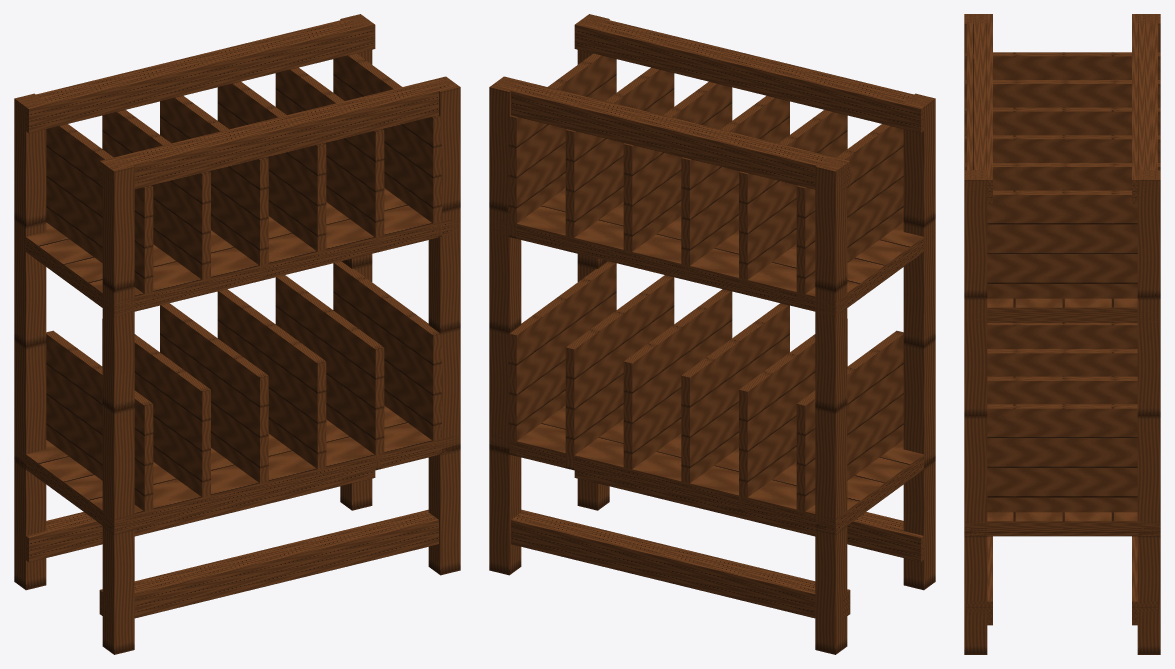
File: prehistoric-survivor-settlement-spear-rest-stand-8af7b6df__23214.glb
3 views of the same model, side by side, from view 1: azimuth 30°, elevation 25°; view 2: azimuth 150°, elevation 25°; view 3: azimuth 270°, elevation 25° (orthographic).
Visible parts, largest first — view 1: spear-rest-stand; view 2: spear-rest-stand; view 3: spear-rest-stand.
Part boxes in pixels (<box>): spear-rest-stand: <box>14,14,460,654</box>; spear-rest-stand: <box>489,14,935,654</box>; spear-rest-stand: <box>964,14,1160,654</box>.
Size of the model in its own units: 1.2 by 1.6 by 0.6001.
Materials: 1 (1 with a texture image).
